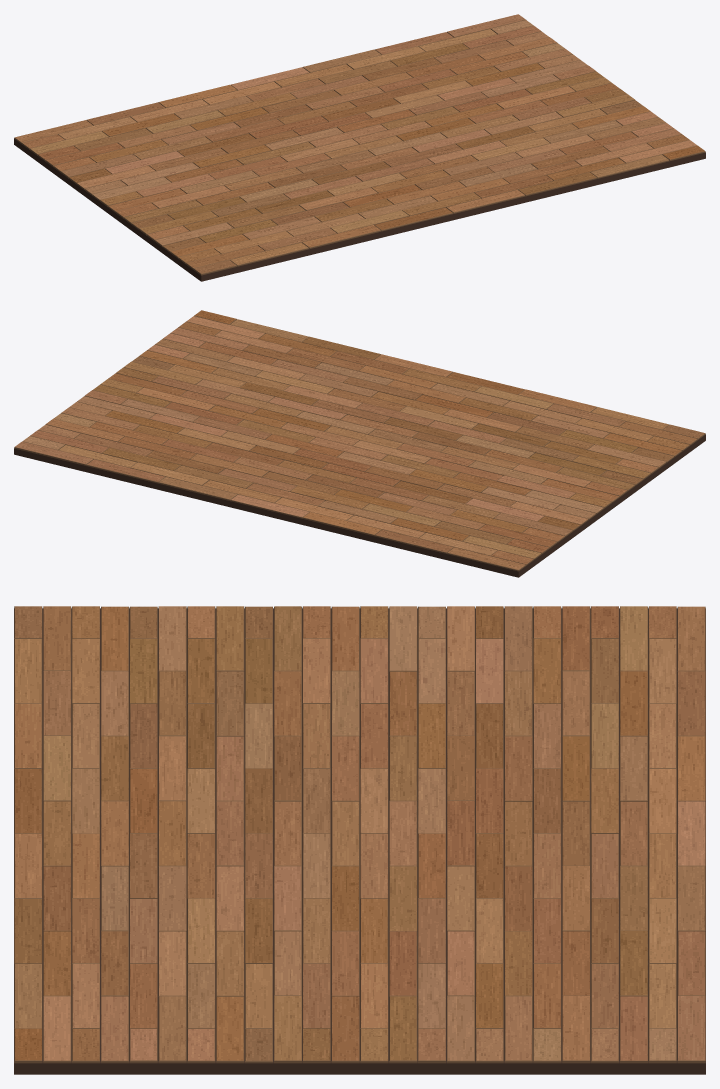
File: floor.glb
3 renders of one model, top to bottom at view 1: azimuth 30°, elevation 25°; view 2: azimuth 150°, elevation 25°; view 3: azimuth 270°, elevation 25°, orthographic. The views are drawn at different scales.
Visible parts, largest first — view 1: OakPlankFloor, Slab; view 2: OakPlankFloor, Slab; view 3: OakPlankFloor, Slab.
Boxes of the visible parts, bbox=[...] form: OakPlankFloor: bbox=[14, 14, 705, 275]; Slab: bbox=[14, 138, 705, 281]; OakPlankFloor: bbox=[14, 310, 705, 571]; Slab: bbox=[14, 434, 705, 577]; OakPlankFloor: bbox=[14, 606, 705, 1063]; Slab: bbox=[14, 608, 705, 1074].
Size of the model in its own units: 14 by 0.202 by 9.
3 materials, 1 textured.
